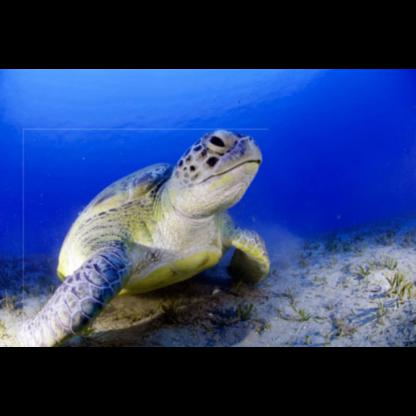turtle: (23, 128, 268, 346)
